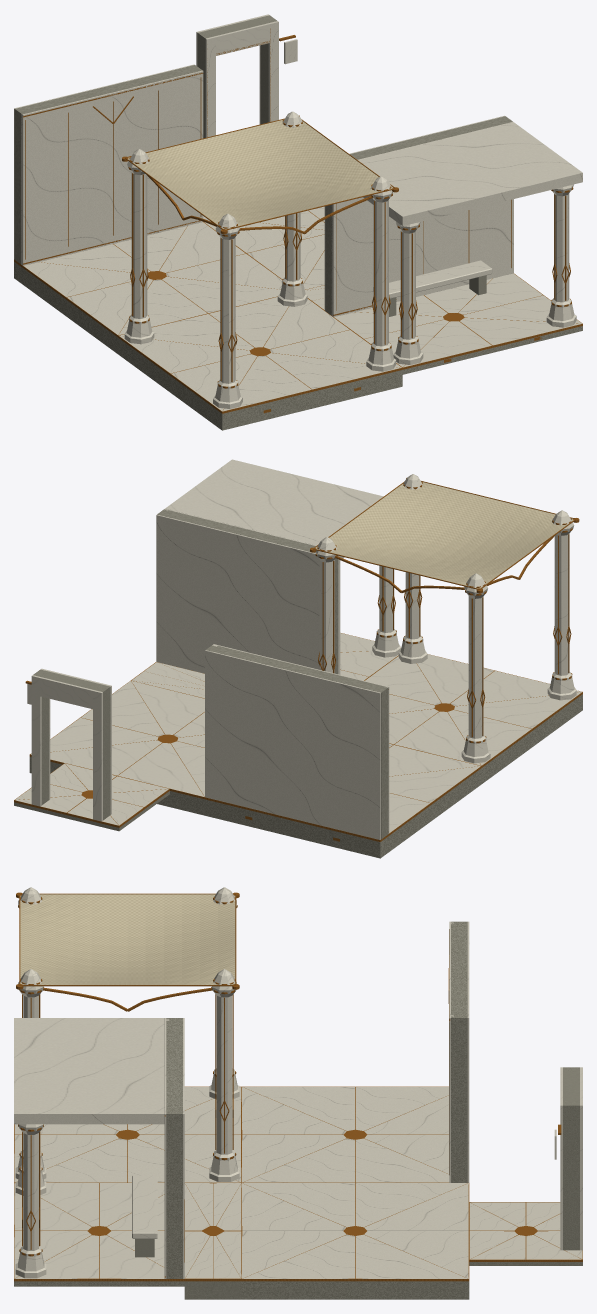
Rendered from assembly.glb.
3 views of the same model, one above another, from view 1: azimuth 30°, elevation 25°; view 2: azimuth 150°, elevation 25°; view 3: azimuth 270°, elevation 25° (orthographic). The views are drawn at different scales.
Parts seen in each view (by area): view 1: Replaceable marble facing panel.003, Taut woven removable canopy with shallow sag, Portico stone shade lintel, Replaceable marble facing panel, Stone floor substrate, Marble pier stepped octagonal facing, Marble pier stepped octagonal facing.002, Marble pier stepped octagonal facing.001, Bearing masonry wall segment.001, Marble pier stepped octagonal facing.004, Marble pier stepped octagonal facing.005, Replaceable flush radial marble floor sector.001 (+38 smaller); view 2: Replaceable marble facing panel.002, Replaceable marble facing panel.001, Taut woven removable canopy with shallow sag, Portico stone shade lintel, Stone floor substrate.001, Marble pier stepped octagonal facing.001, Marble pier stepped octagonal facing, Bearing masonry wall segment.001, Replaceable flush radial marble floor sector.018, Replaceable flush radial marble floor sector.022, Replaceable flush radial marble floor sector.005, Marble pier stepped octagonal facing.003 (+38 smaller); view 3: Taut woven removable canopy with shallow sag, Portico stone shade lintel, Bearing masonry wall segment.001, Bearing masonry wall segment, Stone floor substrate.002, Marble pier stepped octagonal facing.003, Marble pier stepped octagonal facing.004, Replaceable flush radial marble floor sector.020, Replaceable flush radial marble floor sector.017, Replaceable flush radial marble floor sector.015, Replaceable flush radial marble floor sector.013, Replaceable flush radial marble floor sector.018 (+54 smaller).
Part boxes in pixels (x1=…): Replaceable marble facing panel.003: x1=23, y1=71, x2=203, y2=265; Taut woven removable canopy with shallow sag: x1=128, y1=119, x2=392, y2=229; Portico stone shade lintel: x1=358, y1=122, x2=582, y2=225; Replaceable marble facing panel: x1=333, y1=122, x2=513, y2=316; Stone floor substrate: x1=118, y1=338, x2=402, y2=430; Marble pier stepped octagonal facing: x1=213, y1=213, x2=242, y2=408; Marble pier stepped octagonal facing.002: x1=366, y1=176, x2=396, y2=371; Marble pier stepped octagonal facing.001: x1=124, y1=149, x2=154, y2=344; Bearing masonry wall segment.001: x1=14, y1=65, x2=202, y2=263; Marble pier stepped octagonal facing.004: x1=546, y1=170, x2=576, y2=327; Marble pier stepped octagonal facing.005: x1=393, y1=207, x2=423, y2=364; Replaceable flush radial marble floor sector.001: x1=266, y1=353, x2=401, y2=389; Replaceable marble facing panel.002: x1=205, y1=650, x2=380, y2=839; Replaceable marble facing panel.001: x1=156, y1=514, x2=319, y2=673; Taut woven removable canopy with shallow sag: x1=315, y1=482, x2=573, y2=588; Portico stone shade lintel: x1=165, y1=459, x2=383, y2=558; Stone floor substrate.001: x1=205, y1=768, x2=481, y2=858; Marble pier stepped octagonal facing.001: x1=461, y1=573, x2=490, y2=763; Marble pier stepped octagonal facing: x1=547, y1=510, x2=576, y2=700; Bearing masonry wall segment.001: x1=206, y1=645, x2=388, y2=839; Replaceable flush radial marble floor sector.018: x1=118, y1=743, x2=204, y2=796; Replaceable flush radial marble floor sector.022: x1=131, y1=681, x2=204, y2=734; Replaceable flush radial marble floor sector.005: x1=395, y1=711, x2=480, y2=765; Marble pier stepped octagonal facing.003: x1=315, y1=537, x2=337, y2=673; Taut woven removable canopy with shallow sag: x1=20, y1=894, x2=235, y2=984; Portico stone shade lintel: x1=14, y1=1018, x2=164, y2=1124; Bearing masonry wall segment.001: x1=451, y1=921, x2=467, y2=1182; Bearing masonry wall segment: x1=166, y1=1018, x2=182, y2=1278; Stone floor substrate.002: x1=241, y1=1281, x2=469, y2=1299; Marble pier stepped octagonal facing.003: x1=209, y1=969, x2=239, y2=1181; Marble pier stepped octagonal facing.004: x1=15, y1=1106, x2=46, y2=1278; Replaceable flush radial marble floor sector.020: x1=355, y1=1234, x2=467, y2=1278; Replaceable flush radial marble floor sector.017: x1=355, y1=1183, x2=467, y2=1227; Replaceable flush radial marble floor sector.015: x1=242, y1=1087, x2=346, y2=1134; Replaceable flush radial marble floor sector.013: x1=243, y1=1138, x2=354, y2=1182; Replaceable flush radial marble floor sector.018: x1=364, y1=1183, x2=468, y2=1230.
Bounding box in the file's own units: 8 × 4.4 × 10.
Materials: 26 (26 with a texture image).
